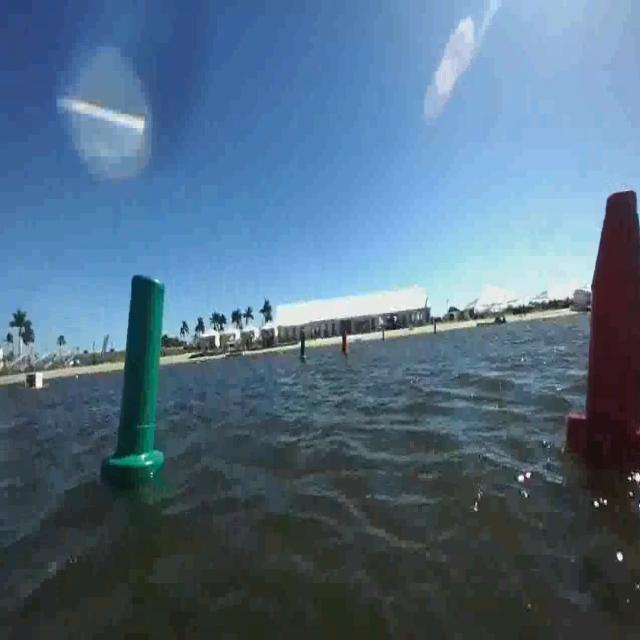green-column-buoy: (106, 272, 168, 478), (296, 331, 308, 363)
red-column-buoy: (566, 191, 640, 471)
